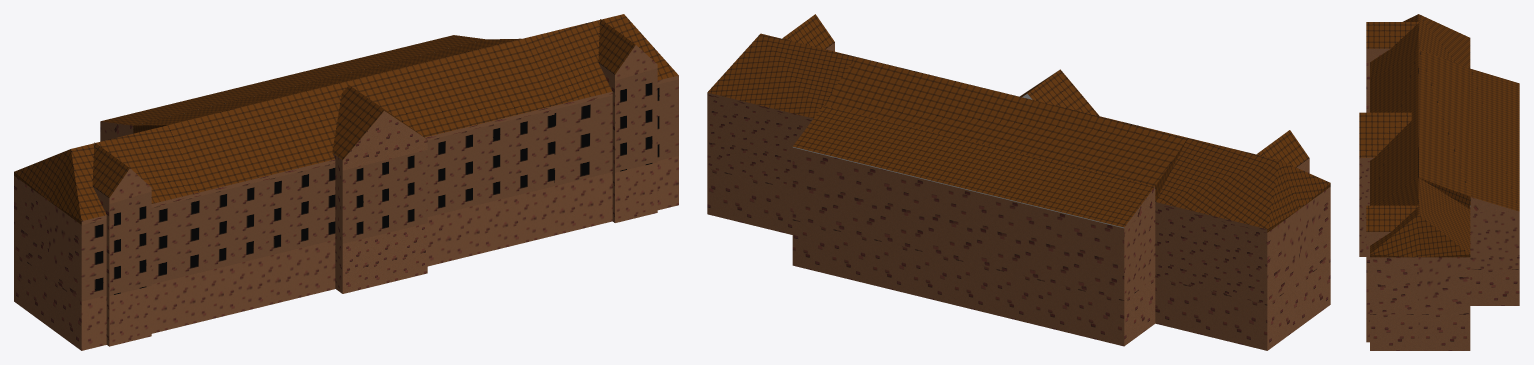
Rendered from brock.fbx.
The picture shows the model from 3 angles, left to right: view 1: azimuth 30°, elevation 25°; view 2: azimuth 150°, elevation 25°; view 3: azimuth 270°, elevation 25°; orthographic projection. The views are drawn at different scales.
Parts seen in each view (by area): view 1: Brock; view 2: Brock; view 3: Brock.
Boxes of the visible parts, left/top/right/bottom form: Brock: left=14, top=14, right=678, bottom=350; Brock: left=707, top=14, right=1330, bottom=350; Brock: left=1359, top=14, right=1519, bottom=350.
Bounding box in the file's own units: 1954 × 612 × 542.
Materials: 5 (3 with a texture image).
